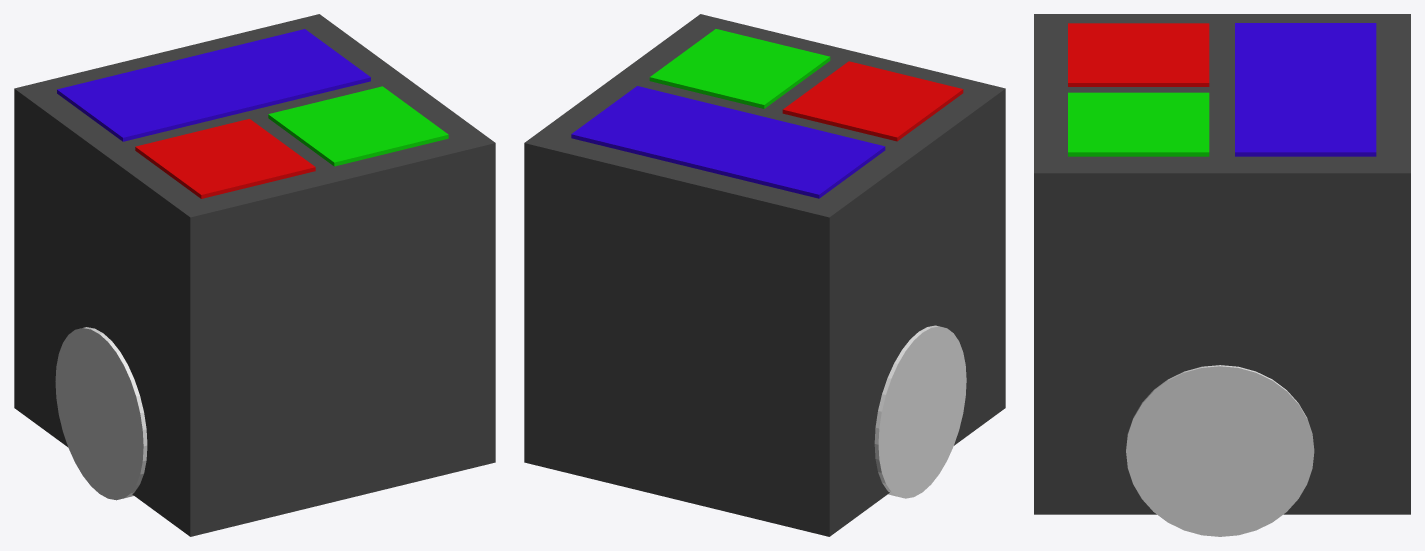
File: robo.glb
3 views of the same model, side by side, from view 1: azimuth 30°, elevation 25°; view 2: azimuth 150°, elevation 25°; view 3: azimuth 270°, elevation 25° (orthographic). The views are drawn at different scales.
Visible parts, largest first — view 1: robo, subTag1, roda, subTag2, TimeTag; view 2: robo, subTag1, roda, TimeTag, subTag2; view 3: robo, roda1, subTag1, subTag2, TimeTag.
Boxes of the visible parts, bbox=[...] form: robo: bbox=[14, 14, 495, 536]; subTag1: bbox=[57, 29, 370, 141]; roda: bbox=[55, 327, 147, 500]; subTag2: bbox=[268, 86, 448, 166]; TimeTag: bbox=[135, 119, 315, 198]; robo: bbox=[524, 14, 1005, 536]; subTag1: bbox=[571, 86, 885, 198]; roda: bbox=[874, 325, 966, 498]; TimeTag: bbox=[782, 61, 963, 141]; subTag2: bbox=[649, 29, 830, 108]; robo: bbox=[1034, 14, 1410, 514]; roda1: bbox=[1126, 365, 1314, 536]; subTag1: bbox=[1235, 23, 1376, 156]; subTag2: bbox=[1068, 92, 1209, 156]; TimeTag: bbox=[1068, 23, 1209, 86].
Size of the model in its own units: 16.32 by 17.21 by 16.
